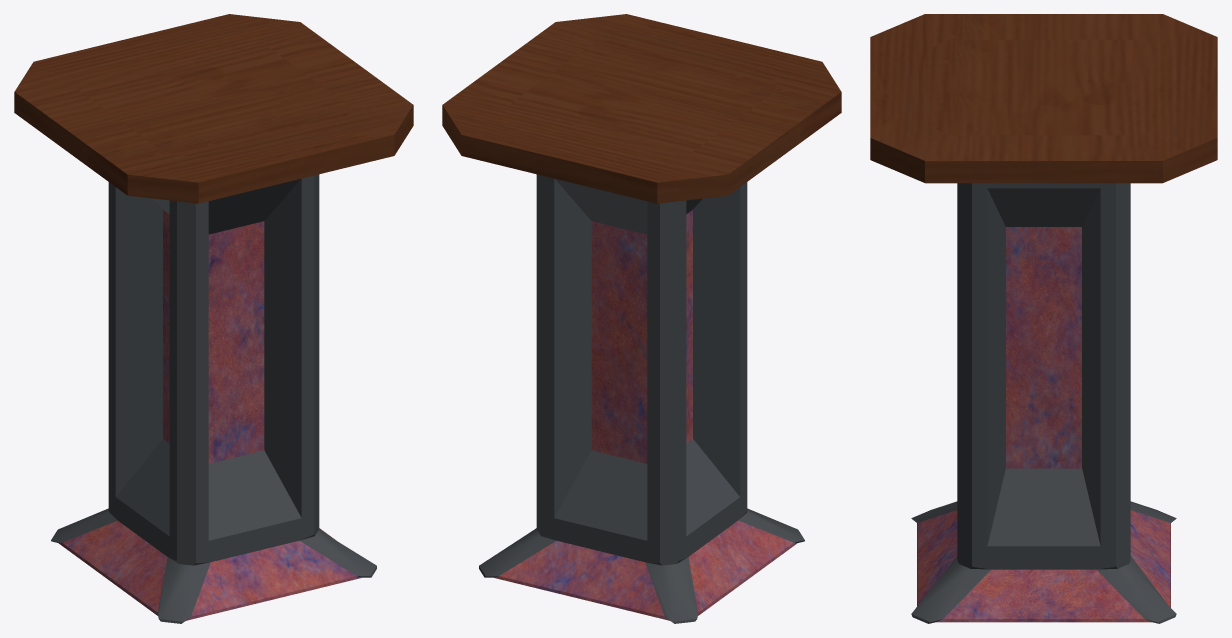
Rendered from ItemStand.glb.
The picture shows the model from 3 angles, left to right: view 1: azimuth 30°, elevation 25°; view 2: azimuth 150°, elevation 25°; view 3: azimuth 270°, elevation 25°; orthographic projection. The views are drawn at different scales.
Parts seen in each view (by area): view 1: Stand; view 2: Stand; view 3: Stand.
Boxes of the visible parts, x1=… form: Stand: x1=14, y1=14, x2=413, y2=623; Stand: x1=442, y1=14, x2=841, y2=623; Stand: x1=870, y1=14, x2=1217, y2=623.
Bounding box in the file's own units: 0.598 × 0.9128 × 0.598.
3 materials, 2 textured.
